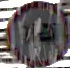Heavy Vehicles: (2, 0, 69, 67)
